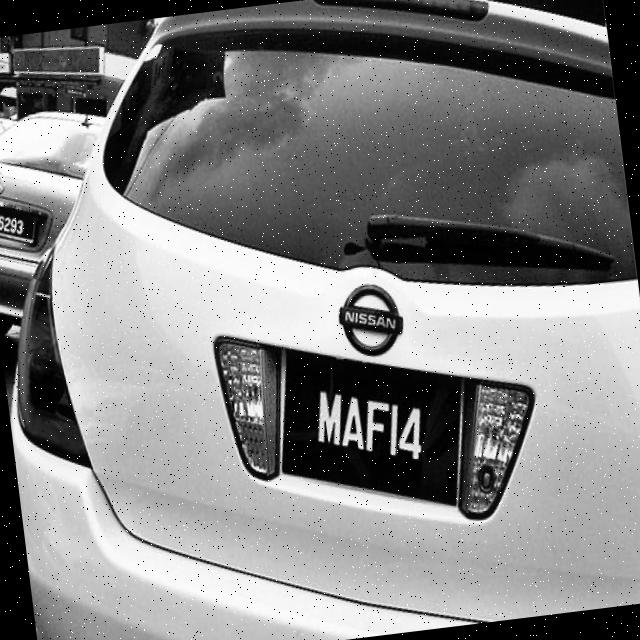License_Plate: (263, 320, 485, 566), (1, 196, 39, 258)
car: (1, 1, 640, 640)
